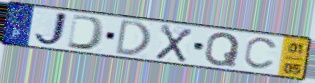C: (241, 37, 280, 72)
D: (64, 13, 107, 52), (113, 17, 153, 56)
J: (32, 10, 70, 48)
Q: (202, 31, 242, 67)
X: (153, 23, 195, 64)
